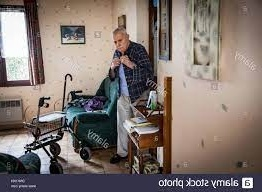not_fallen: (103, 24, 154, 162)
